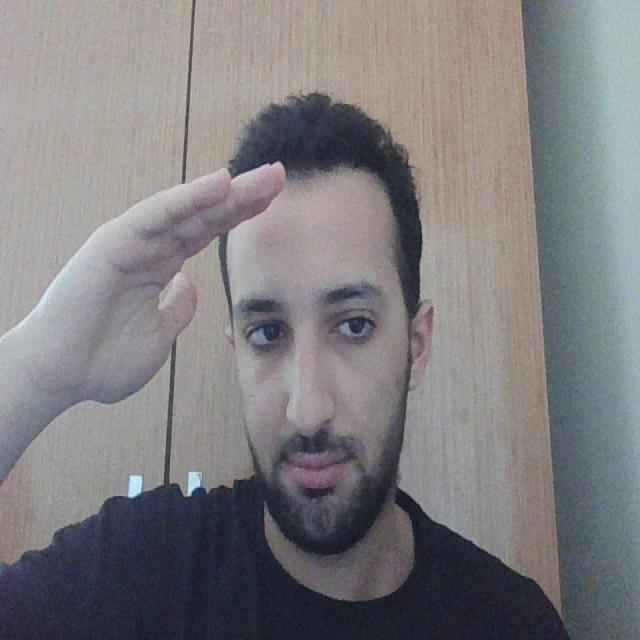Merhaba: (43, 145, 288, 478)
